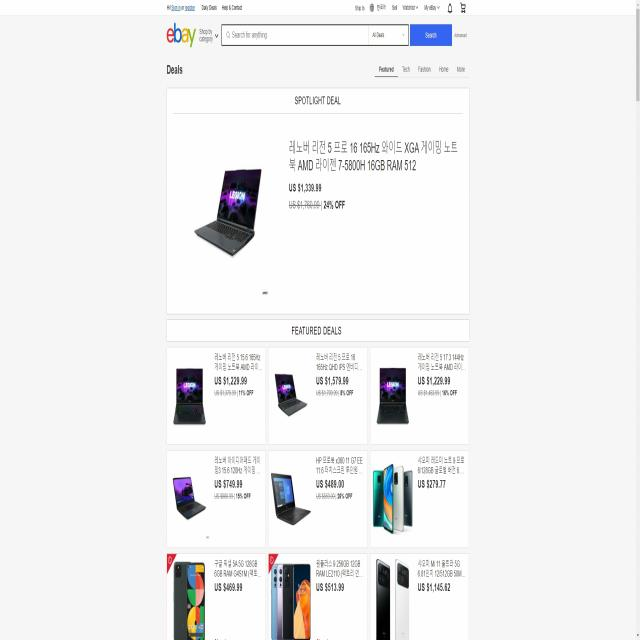menu-bar: (352, 1, 468, 17)
search: (220, 21, 453, 48)
tab-bar: (376, 60, 466, 77)
